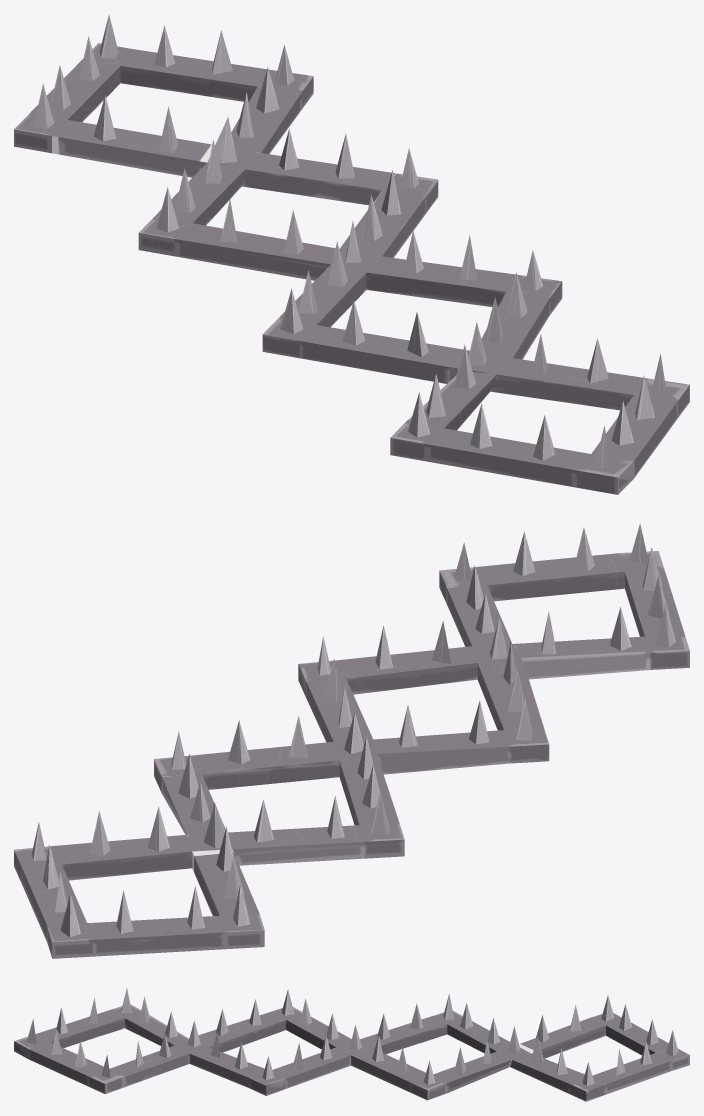
The model's file is Spike Trap.fbx.
3 renders of one model, top to bottom at view 1: azimuth 30°, elevation 25°; view 2: azimuth 150°, elevation 25°; view 3: azimuth 270°, elevation 25°, orthographic. The views are drawn at different scales.
Visible parts, largest first — view 1: REAL Spike trap; view 2: REAL Spike trap; view 3: REAL Spike trap.
Boxes of the visible parts, x1,y1,x2,y2 form: REAL Spike trap: (14,14,689,494); REAL Spike trap: (14,523,689,958); REAL Spike trap: (14,988,689,1101).
Bounding box in the file's own units: 56.63 × 10.78 × 181.
